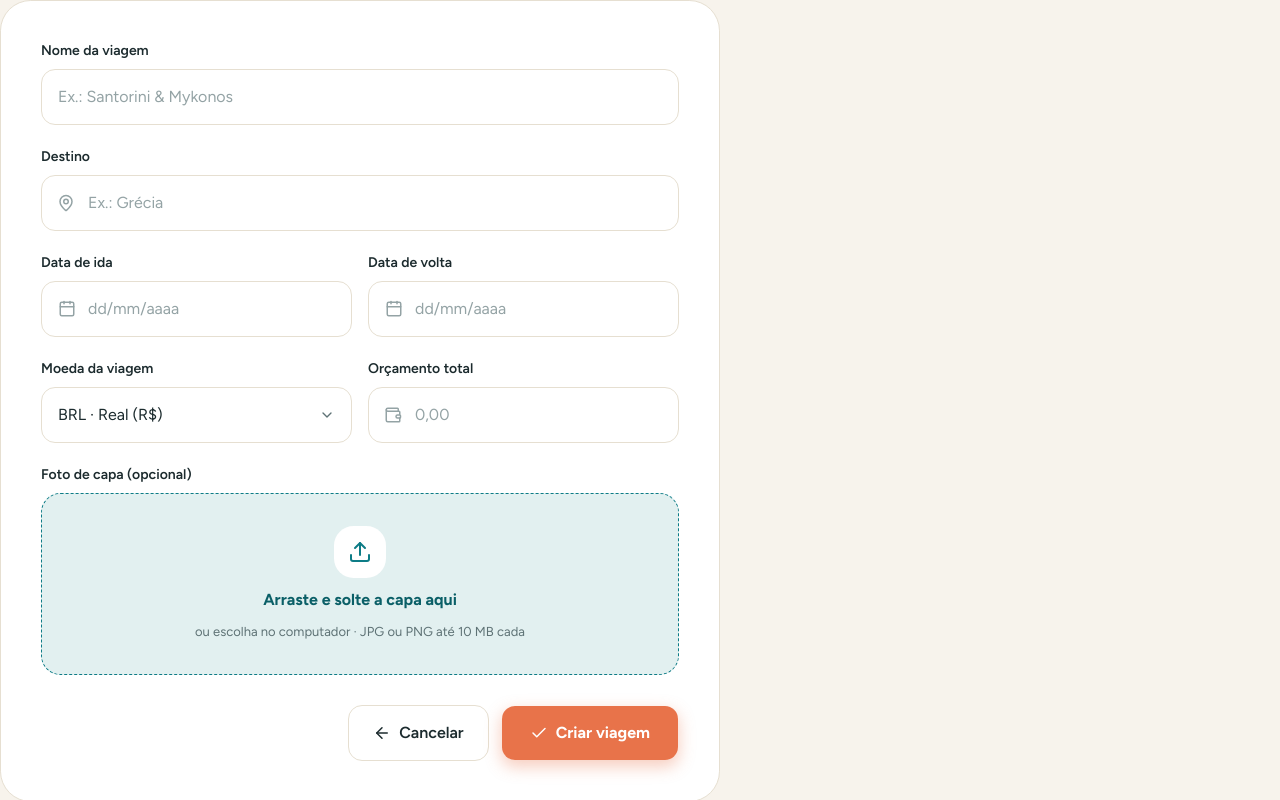
it: NewTripForm › does not offer return dates before the departure
Click the button named "Data de ida". click: (134, 308)
box: [41,281,352,337]
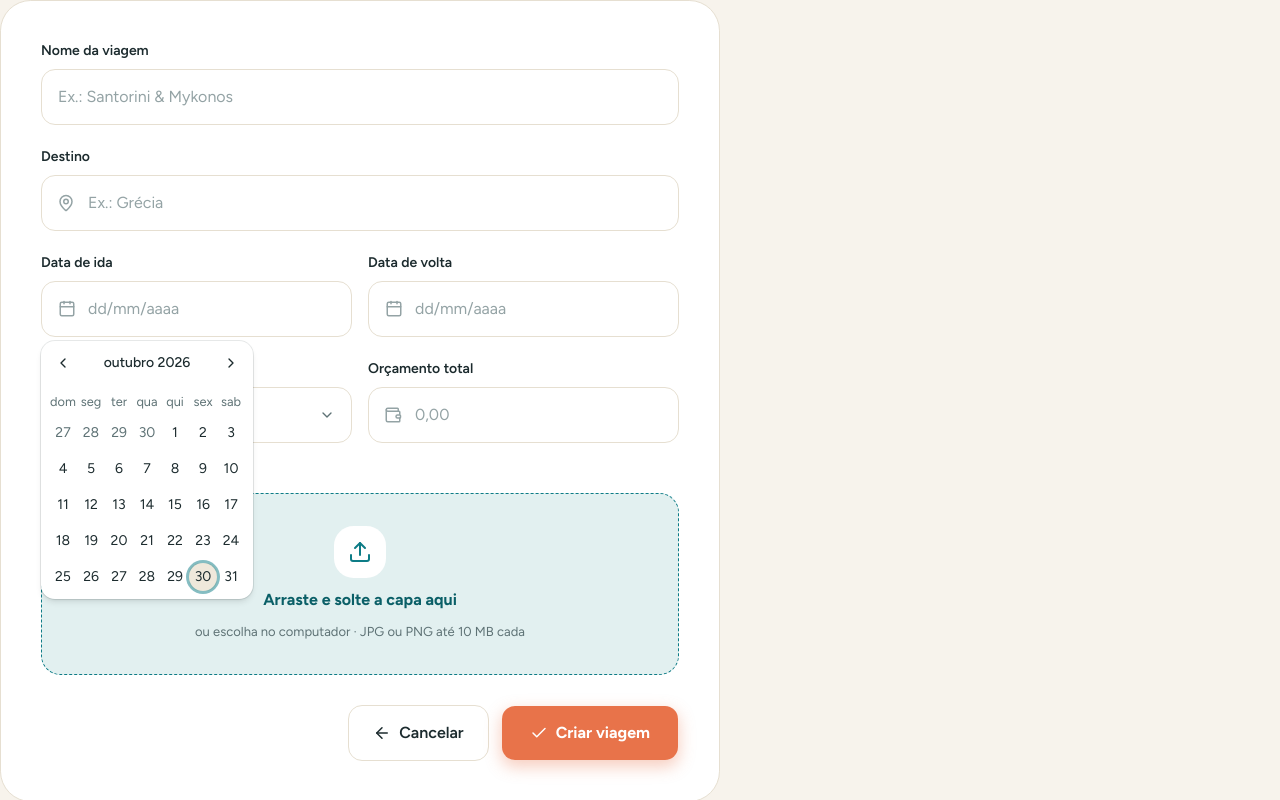
Click the button named "20 de". click: (119, 541)
box: [105,527,133,555]
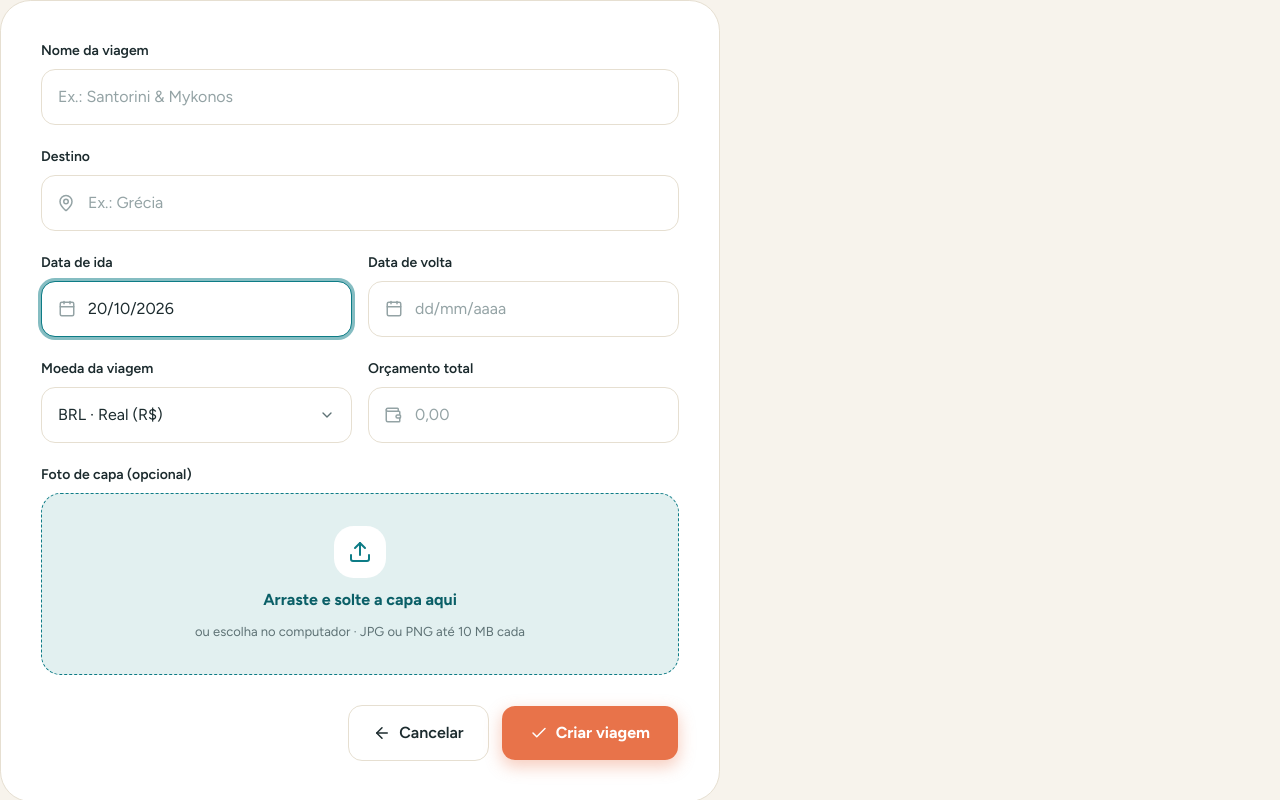
Click the button named "Data de volta". click: (461, 308)
box: [368,281,679,337]
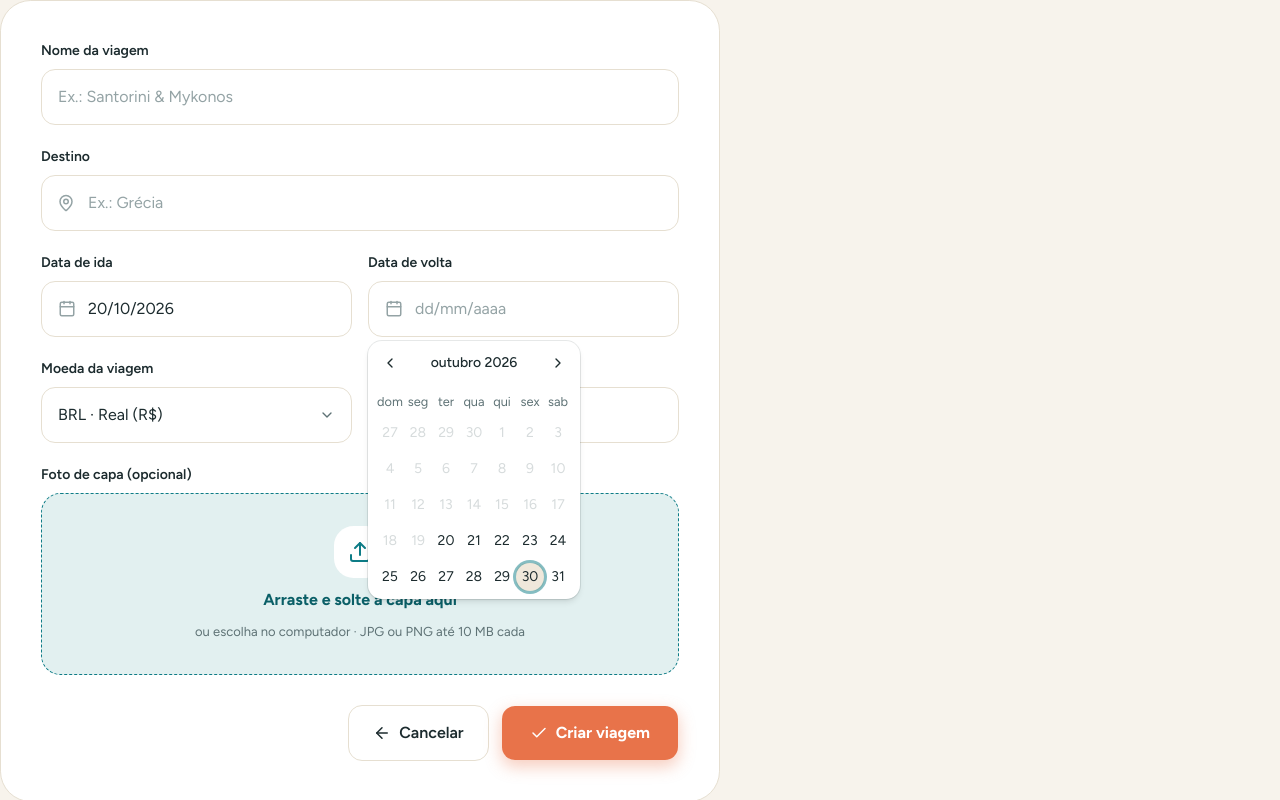
Now the button named "19 de" is disabled, box [404,527,432,555]
